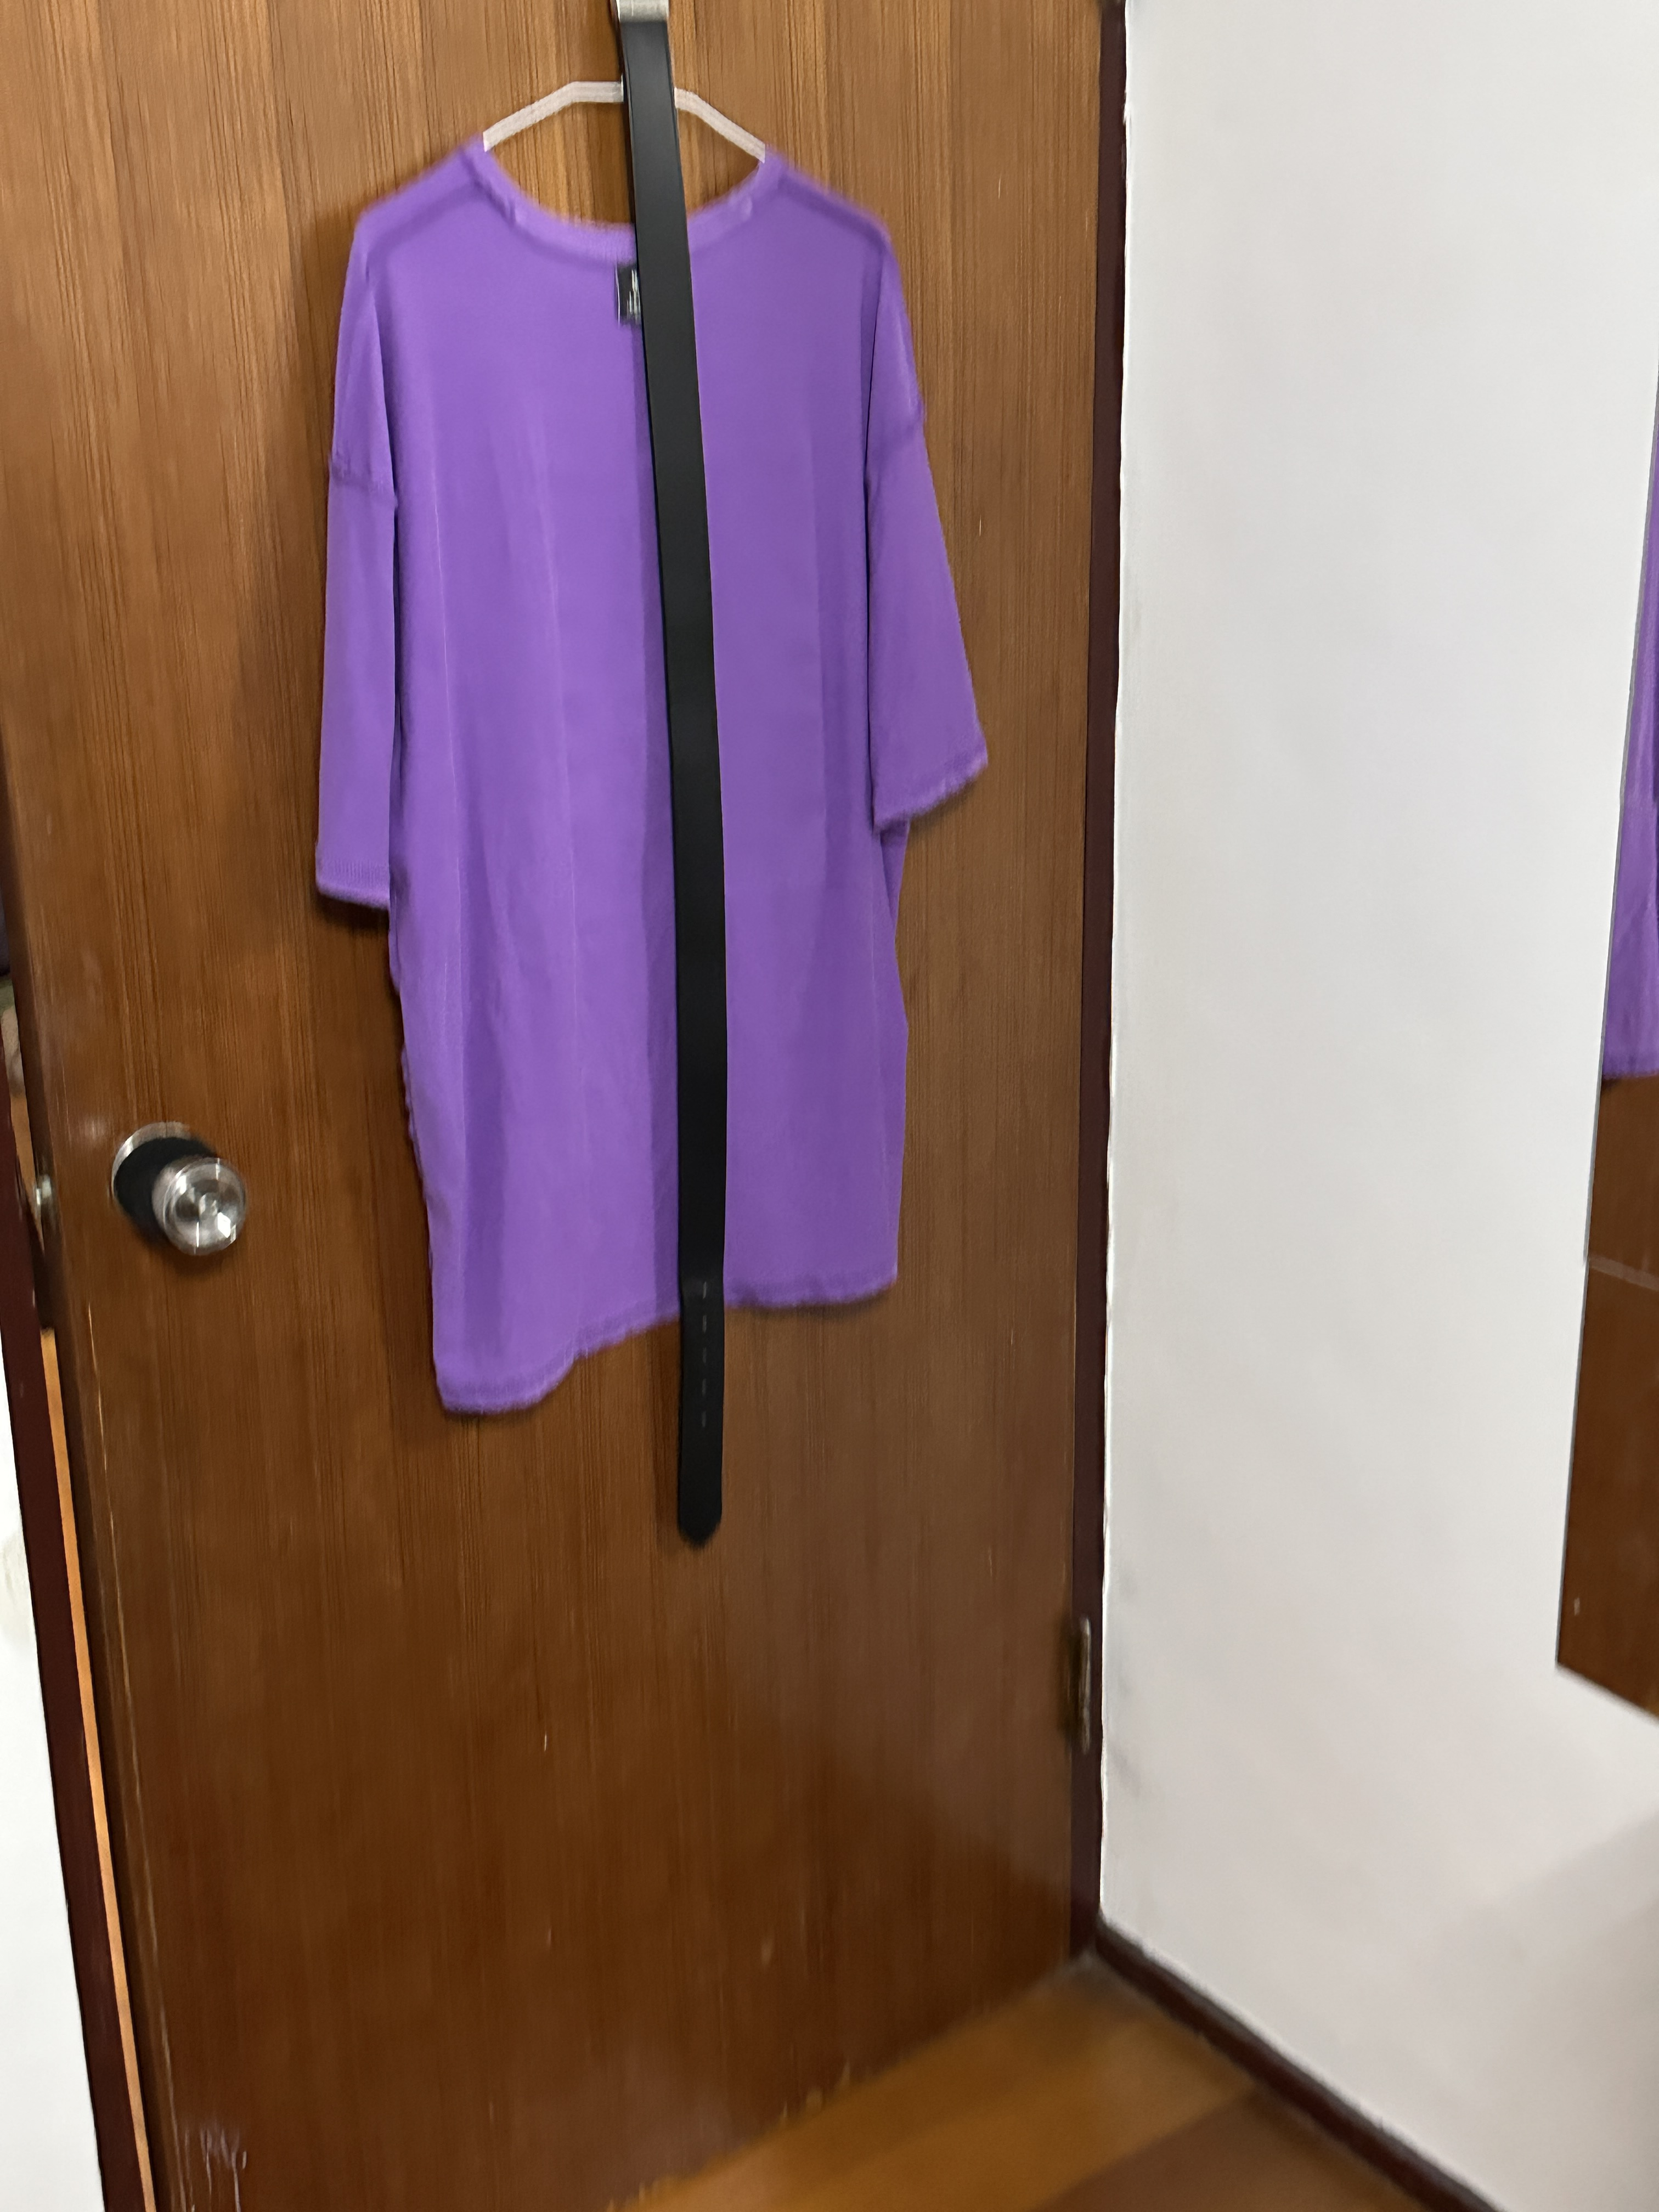Door Close: (0, 66, 1269, 2212)
